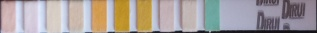color 1: (2, 3, 14, 30)
color 10: (205, 1, 218, 29)
color 2: (26, 4, 36, 31)
color 3: (48, 2, 59, 31)
color 4: (70, 3, 82, 31)
color 5: (93, 2, 105, 31)
color 6: (116, 1, 127, 30)
color 7: (137, 1, 150, 30)
color 8: (161, 1, 172, 30)
color 9: (183, 1, 194, 29)
